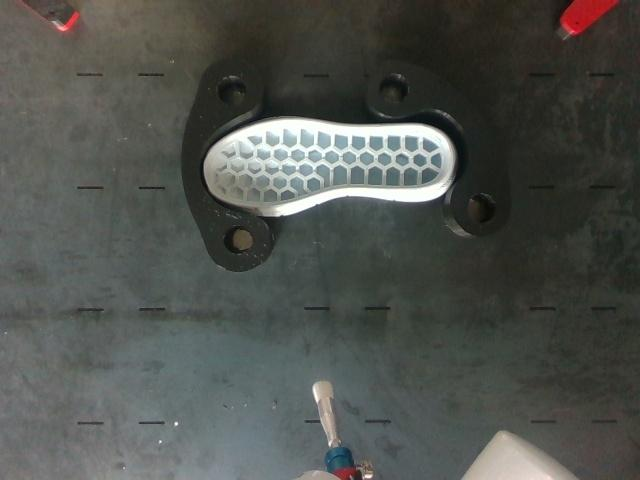shoes: (206, 119, 452, 207)
